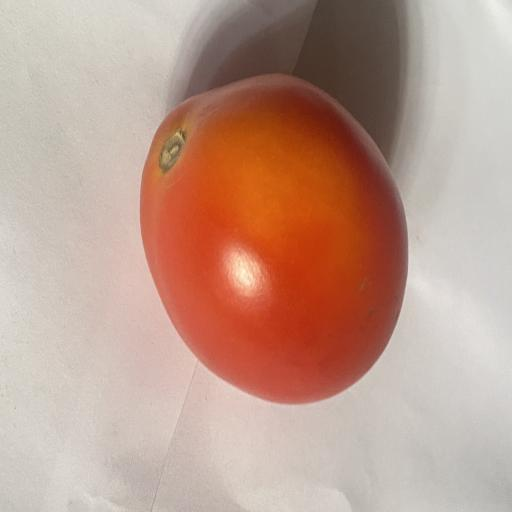ripe: (140, 74, 408, 402)
